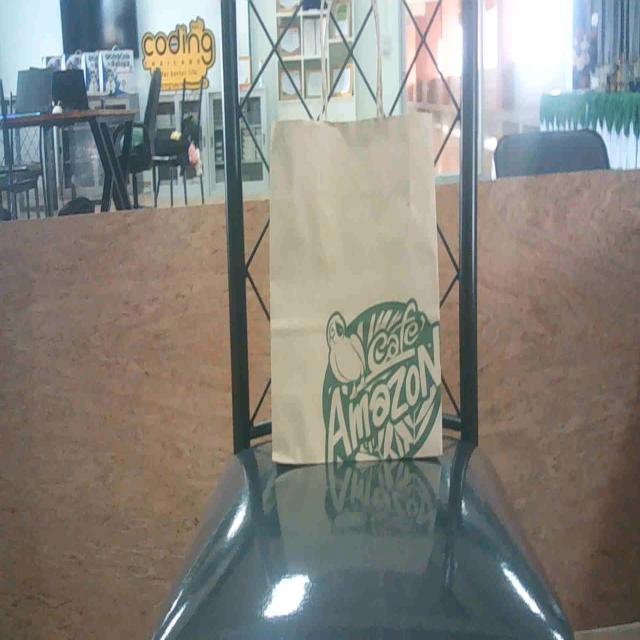bag: (267, 111, 441, 465)
